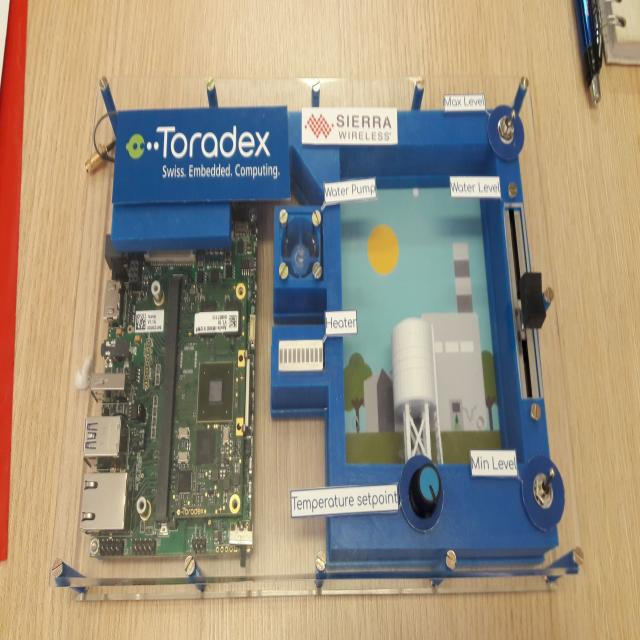som: (171, 277, 245, 522)
